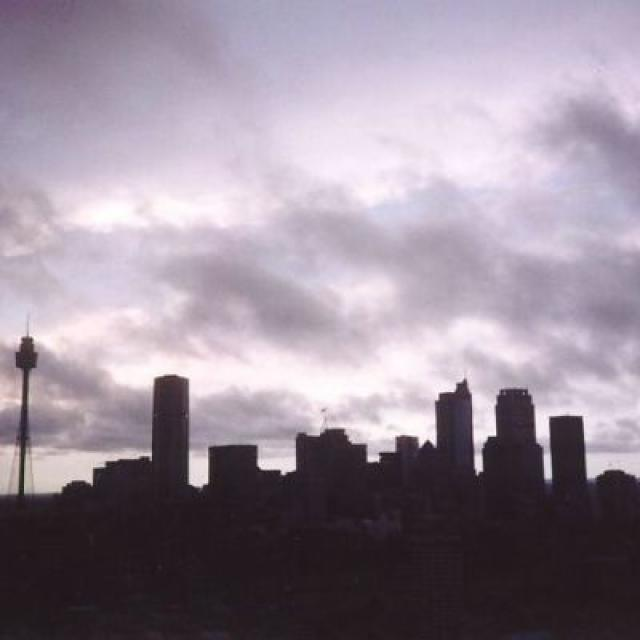St: (1, 40, 640, 323)
